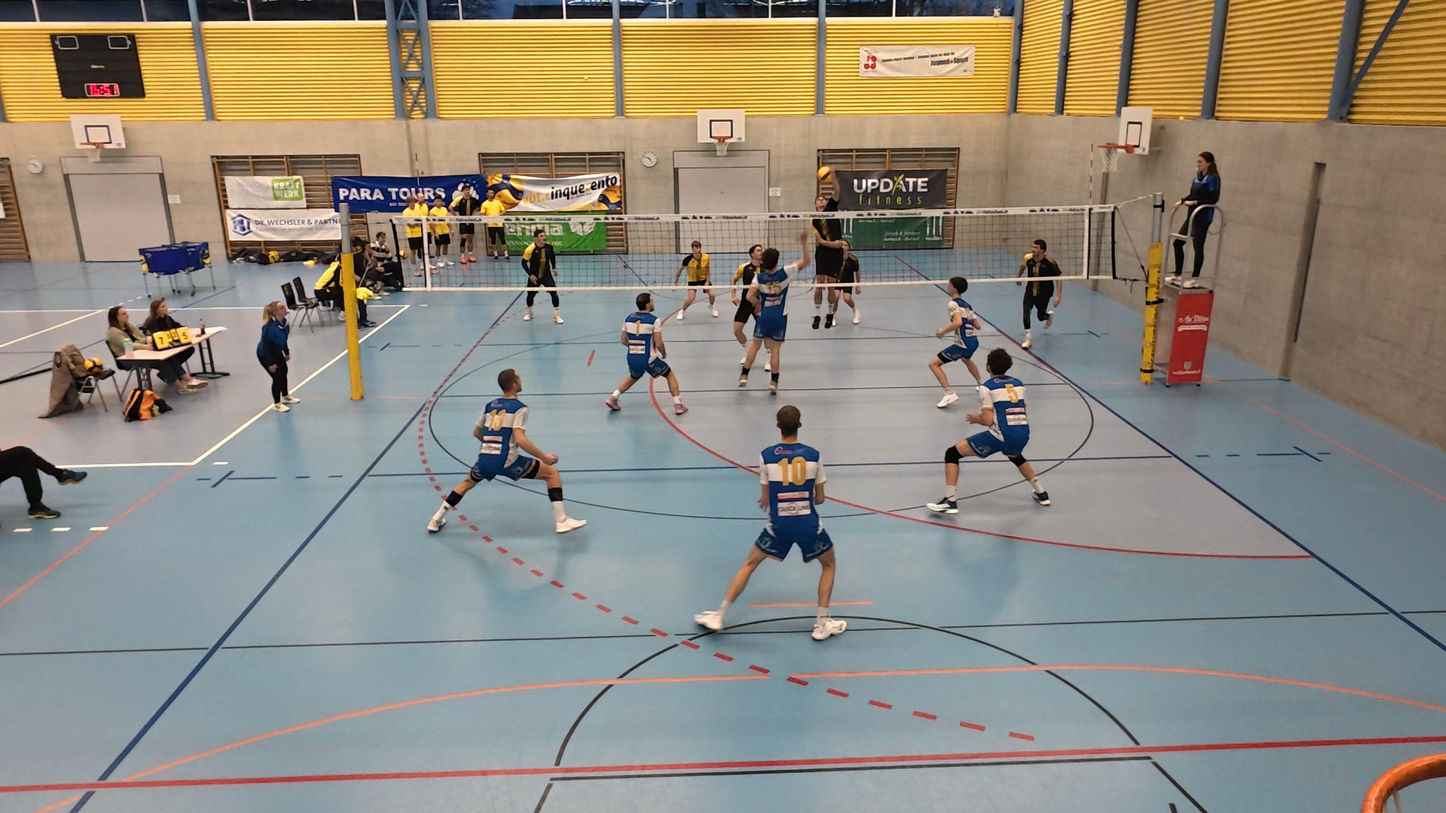Attack: (810, 168, 846, 331)
Player: (696, 405, 847, 641), (428, 369, 583, 534), (925, 349, 1051, 514), (603, 291, 689, 417), (930, 276, 989, 410), (732, 249, 776, 387), (1017, 237, 1061, 352), (519, 229, 565, 324), (675, 241, 727, 322), (834, 243, 863, 326)
ball: (818, 165, 837, 184)
